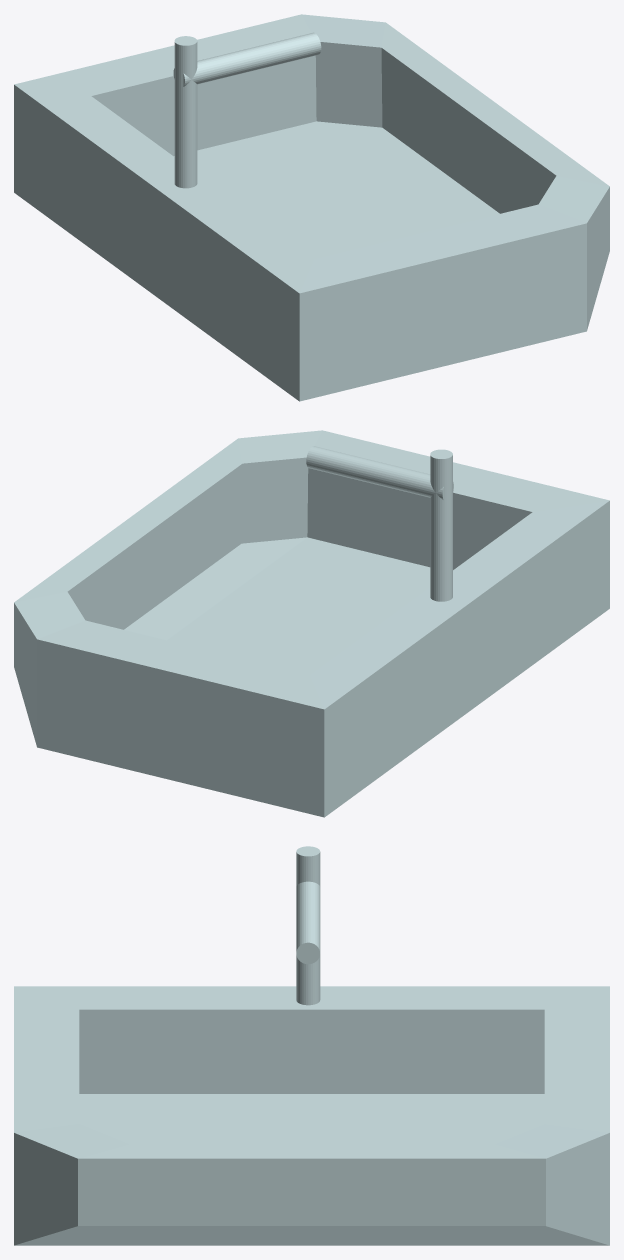
The model's file is washbasin.fbx.
The picture shows the model from 3 angles, top to bottom: view 1: azimuth 30°, elevation 25°; view 2: azimuth 150°, elevation 25°; view 3: azimuth 270°, elevation 25°; orthographic projection. The views are drawn at different scales.
Visible parts, largest first — view 1: washbasin; view 2: washbasin; view 3: washbasin.
Boxes of the visible parts, x1,y1,x2,y2 form: washbasin: (14, 14, 609, 401); washbasin: (14, 430, 609, 817); washbasin: (14, 846, 609, 1245).
Size of the model in its own units: 49.41 by 34.71 by 71.62.
